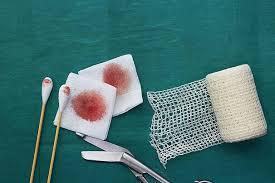cotton: (147, 65, 266, 164), (147, 79, 222, 164), (206, 64, 266, 141), (78, 54, 142, 115), (61, 73, 115, 139), (58, 84, 70, 112), (42, 77, 52, 103)
